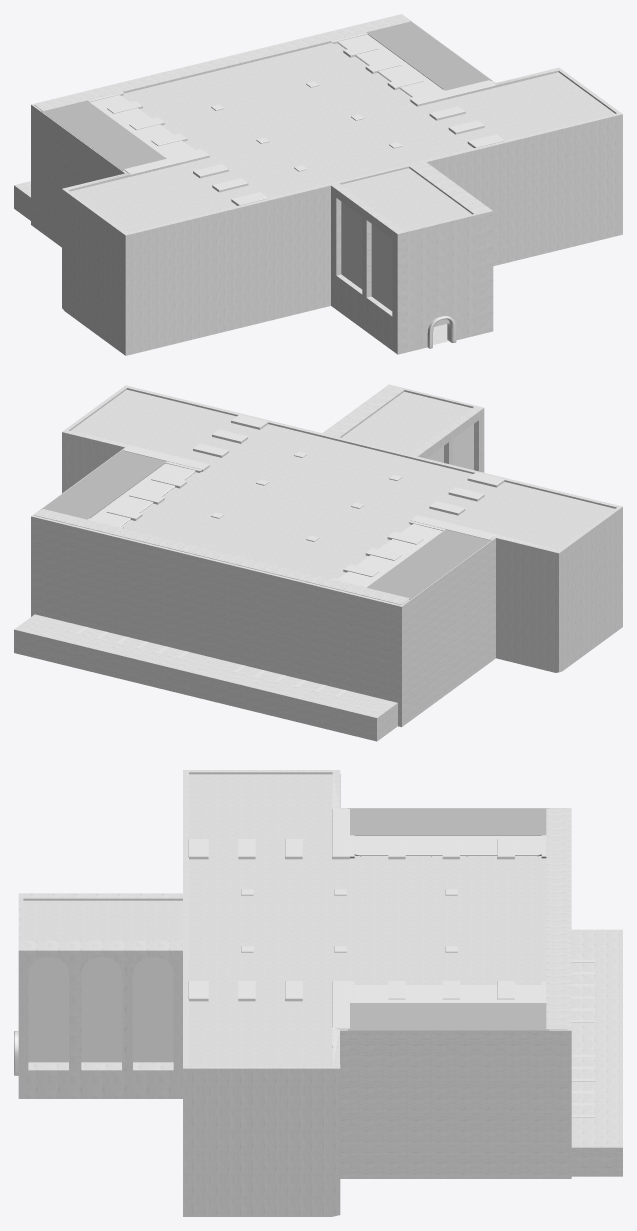
Rendered from Agency.fbx.
3 views of the same model, one above another, from view 1: azimuth 30°, elevation 25°; view 2: azimuth 150°, elevation 25°; view 3: azimuth 270°, elevation 25° (orthographic). The views are drawn at different scales.
Visible parts, largest first — view 1: Cube.008, Plane.002, Cube.011, Cube.036, Cube.023, Cube.028, Cube.013; view 2: Cube.008, Plane.002, Cube.011, Cube.036, Cube.023, Cube.028, Cube.013; view 3: Cube.008, Plane.002, Cube.013, Cube.011, Cube.036, Cube.023, Cube.028.
Boxes of the visible parts, bbox=[...] form: Cube.008: bbox=[14, 14, 622, 355]; Plane.002: bbox=[70, 43, 614, 232]; Cube.011: bbox=[41, 20, 491, 170]; Cube.036: bbox=[107, 43, 504, 348]; Cube.023: bbox=[87, 32, 444, 158]; Cube.028: bbox=[34, 15, 410, 111]; Cube.013: bbox=[341, 202, 392, 310]; Cube.008: bbox=[14, 384, 622, 741]; Plane.002: bbox=[70, 389, 614, 578]; Cube.011: bbox=[41, 450, 491, 599]; Cube.036: bbox=[75, 414, 504, 697]; Cube.023: bbox=[88, 461, 445, 587]; Cube.028: bbox=[34, 509, 410, 604]; Cube.013: bbox=[427, 424, 473, 470]; Cube.008: bbox=[18, 770, 622, 1216]; Plane.002: bbox=[23, 774, 546, 1066]; Cube.013: bbox=[28, 957, 173, 1062]; Cube.011: bbox=[347, 808, 548, 1030]; Cube.036: bbox=[14, 809, 595, 1117]; Cube.023: bbox=[350, 835, 546, 1002]; Cube.028: bbox=[546, 808, 567, 1029].
Bounding box in the file's own units: 15559 × 3645 × 13415.
